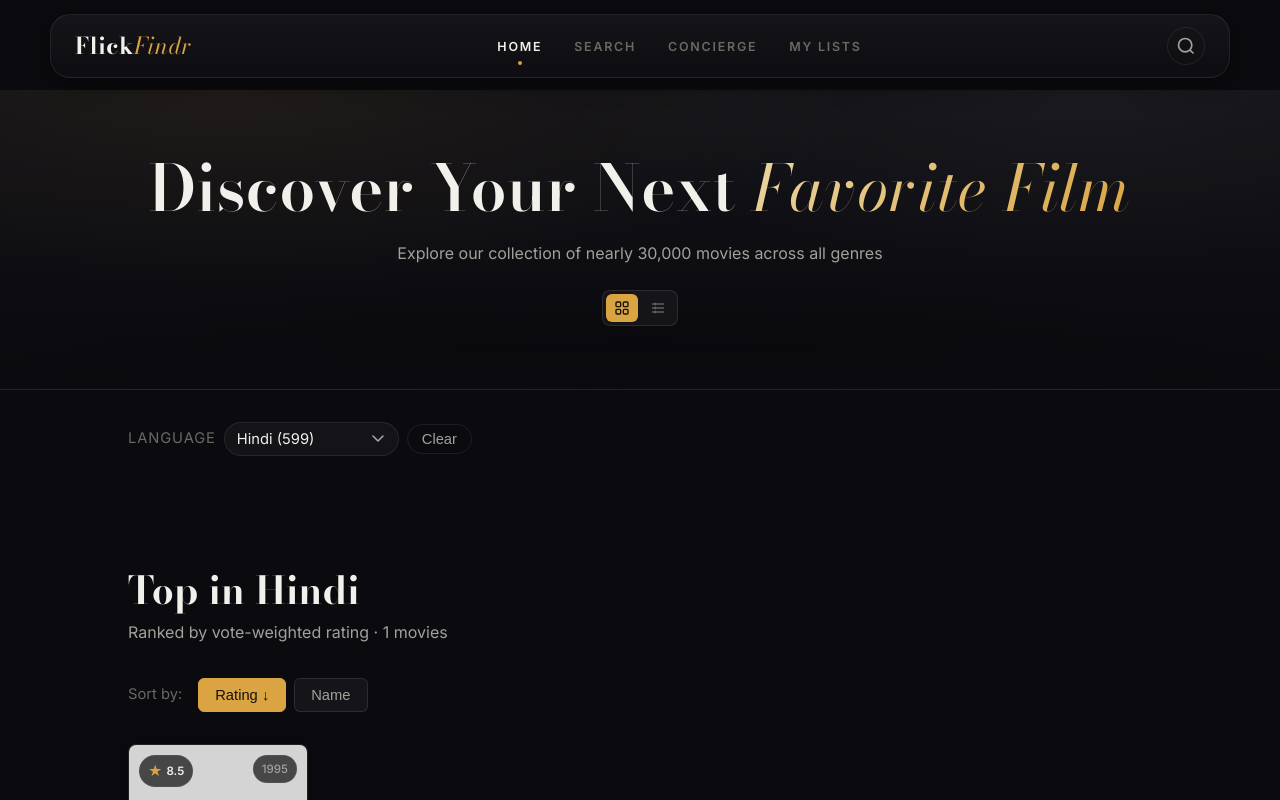
it: home language filter › restores the shelves when cleared
The width and height of the screenshot is (1280, 800).
Expected: the heading "Top in Hindi" is shown, [128,561,360,619]
Click the button "Clear": (439, 439) [407,424,472,454]
(page scrolled)
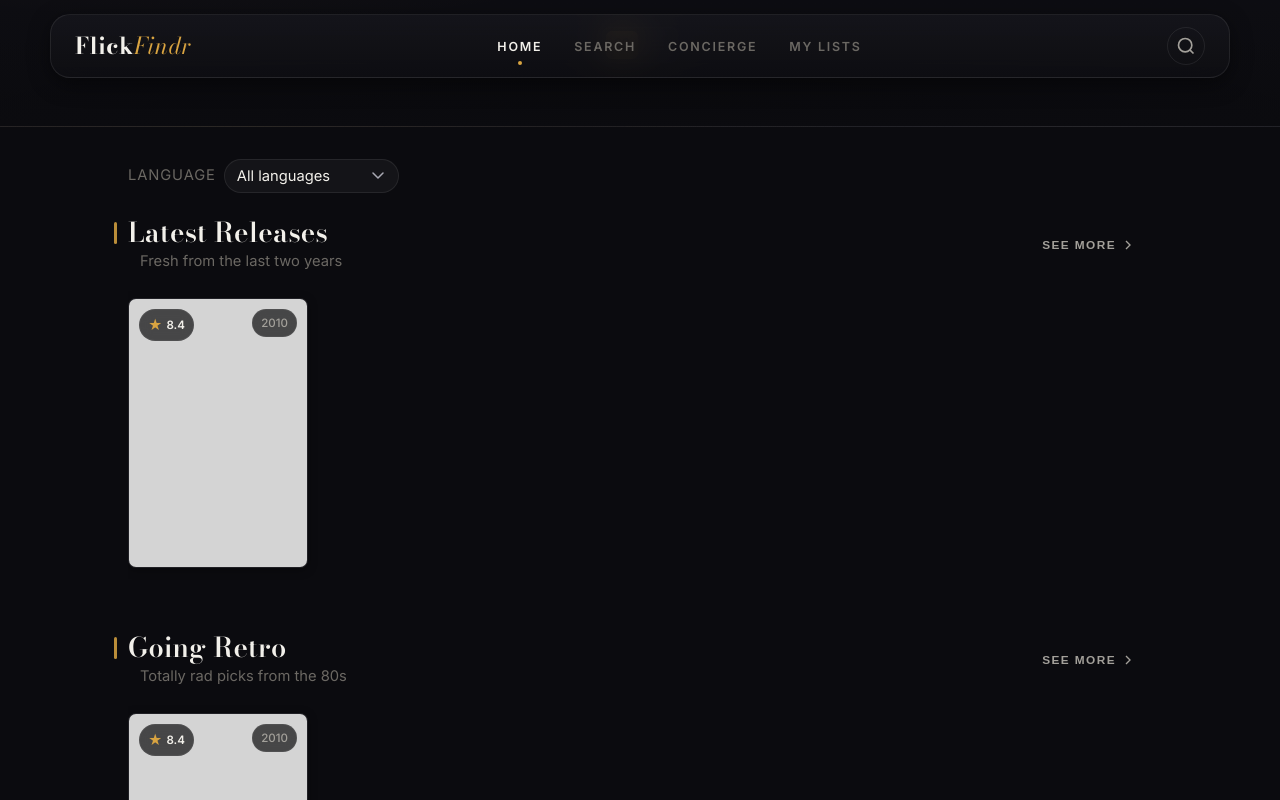
Expected: the element with class "category-row" that starts with "Latest Releases" is shown, [128,217,1152,584]
